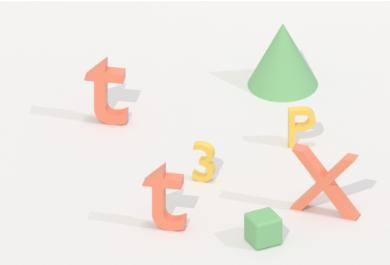0-KhoiVuong: (239, 202, 286, 254)
0-TamGiac: (242, 22, 325, 104)
3: (189, 137, 219, 188)
P: (285, 103, 318, 152)
X: (288, 143, 362, 227)
t: (82, 53, 133, 129), (140, 159, 191, 235)
